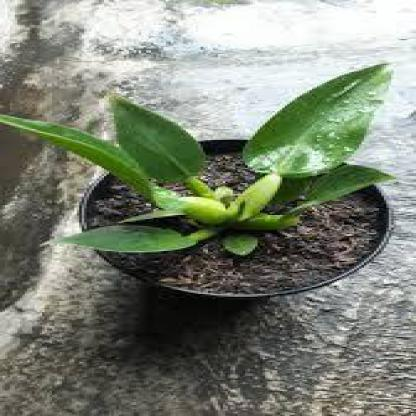Melati: (169, 127, 306, 238), (144, 330, 314, 412), (40, 18, 141, 112)
